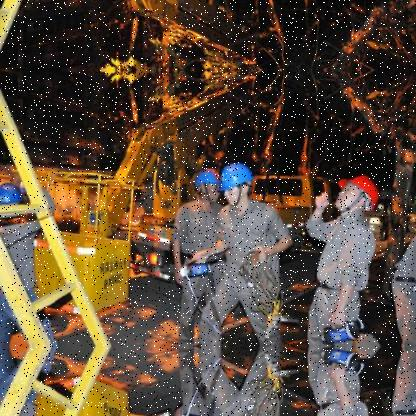helmet: (335, 172, 379, 213), (221, 159, 255, 204), (195, 167, 223, 203), (3, 178, 25, 219)
